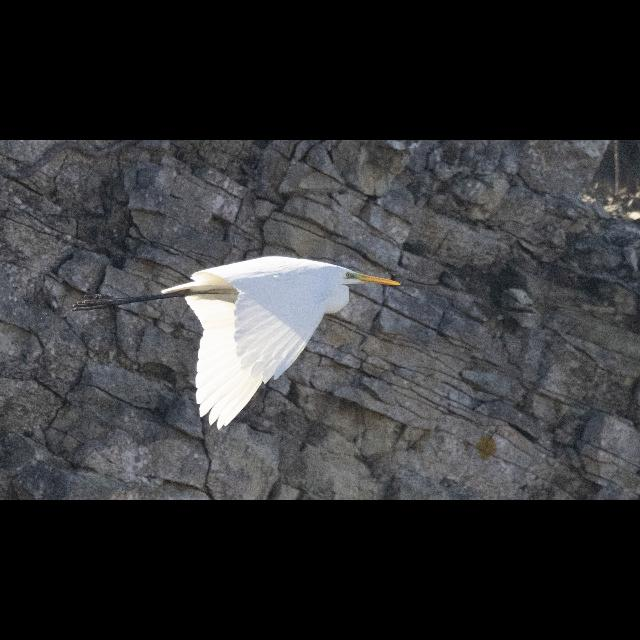egret: (72, 252, 402, 440)
